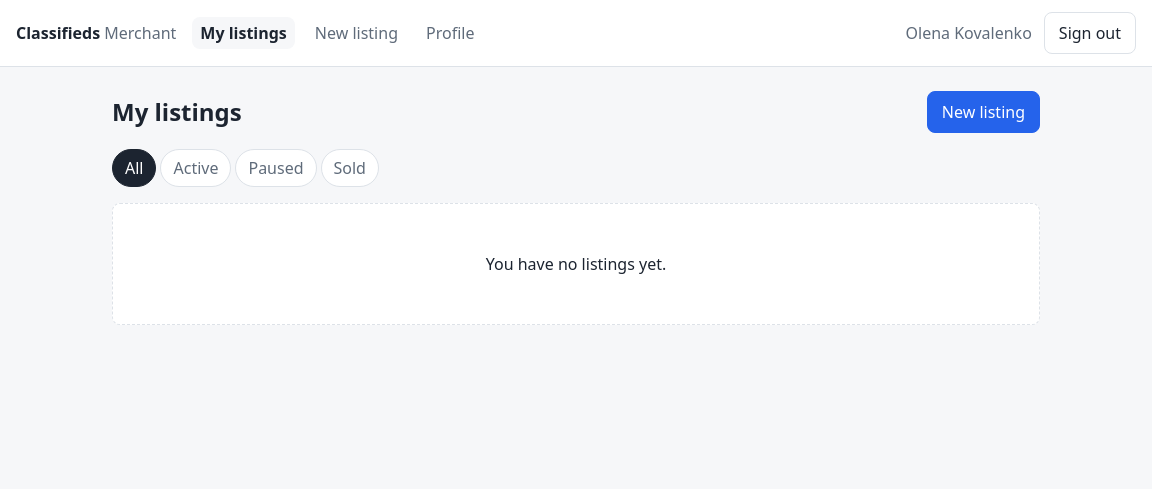
it: sign-out › ends the session and returns to sign-in
What coordinates should you click on to do the following:
click the button "Sign out"
I would click on:
 (1090, 33)
Its box is [1044, 12, 1136, 54].
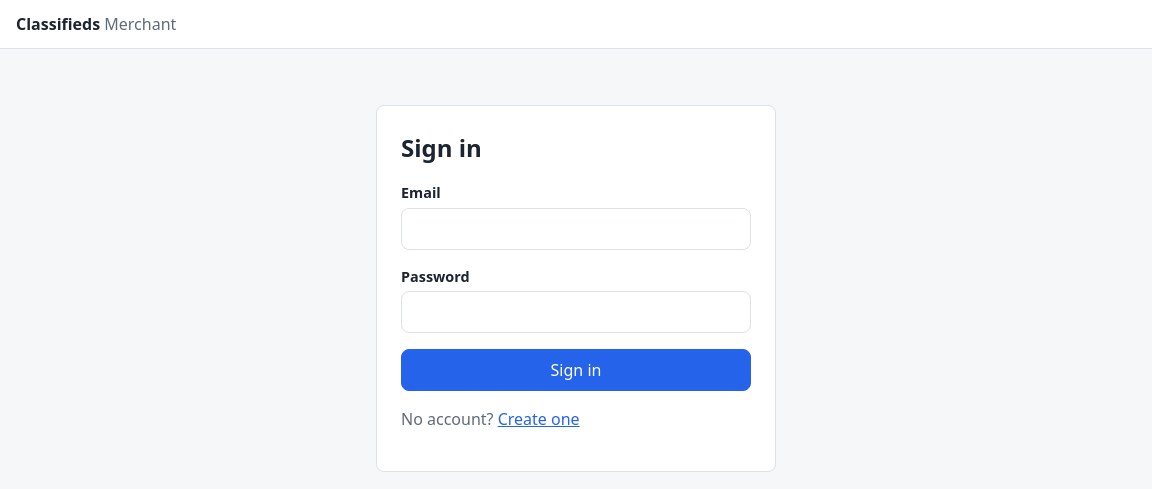
Expected: the heading "Sign in" is shown, [401, 131, 482, 164]
Expected: the text "Olena Kovalenko" is gone
